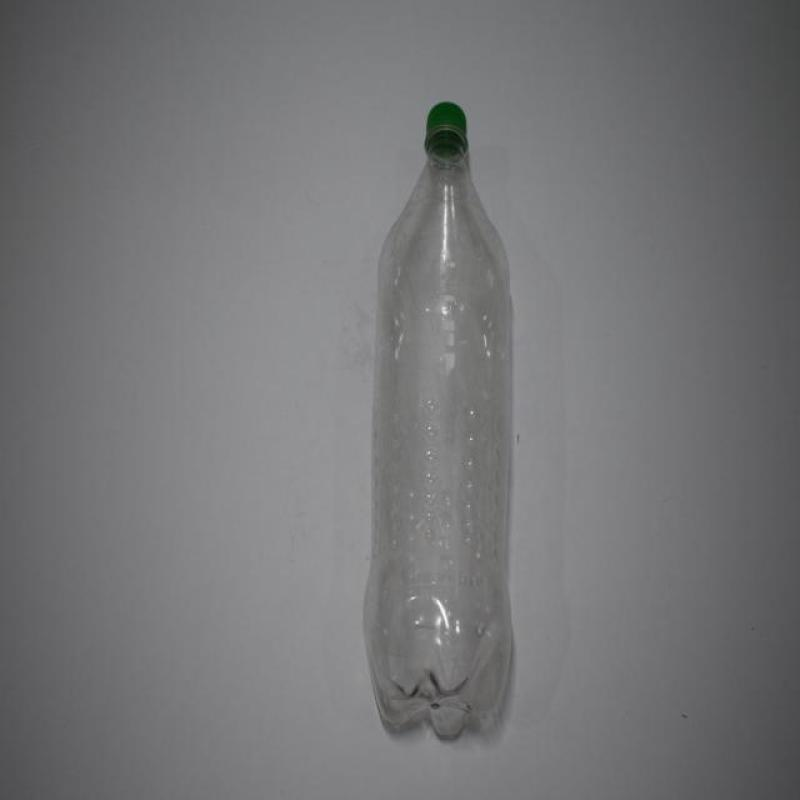botella: (365, 104, 513, 744)
